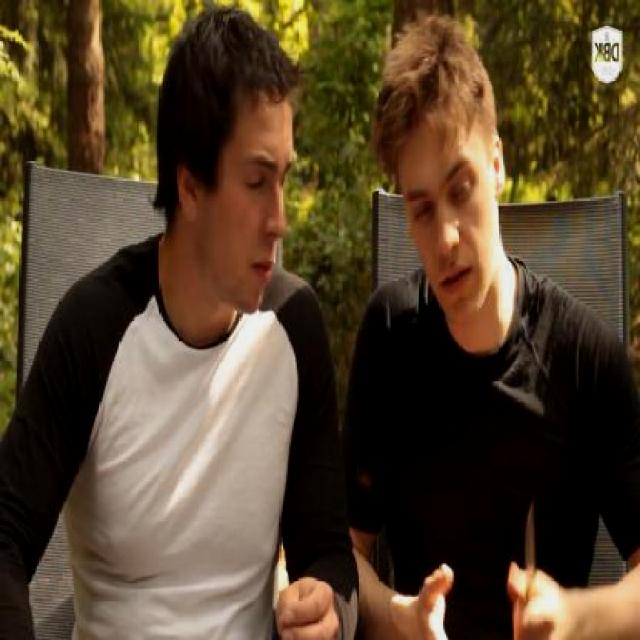knife: (499, 484, 559, 640)
